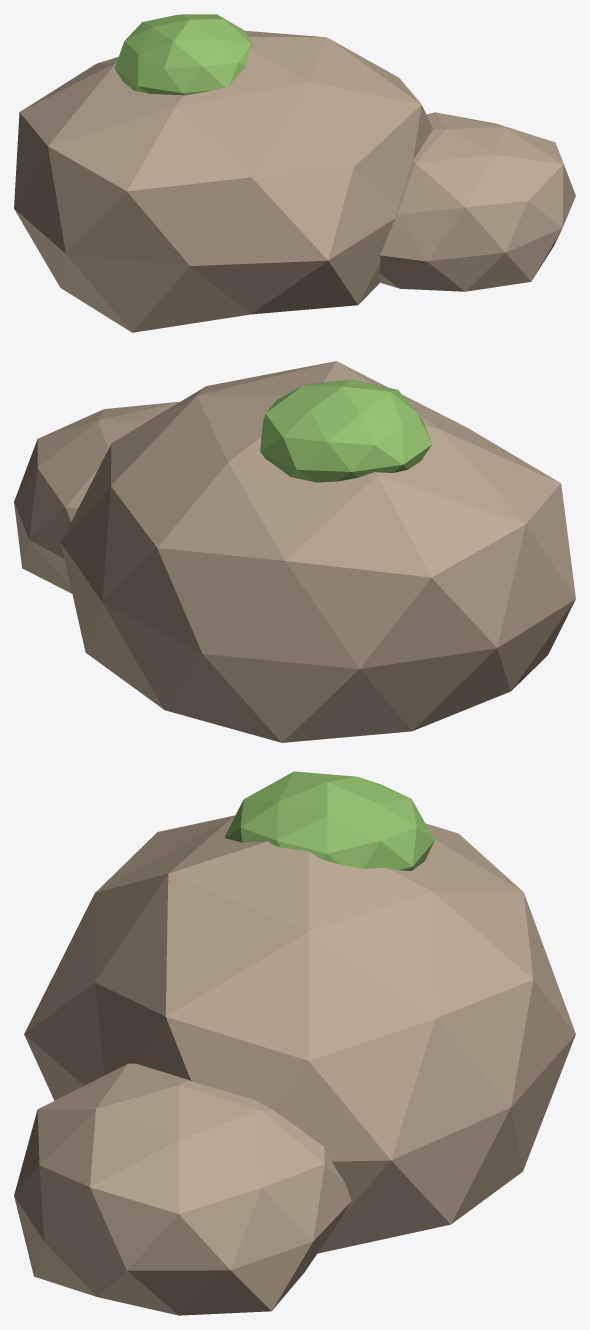
The model's file is ocean-g0.glb.
The picture shows the model from 3 angles, top to bottom: view 1: azimuth 30°, elevation 25°; view 2: azimuth 150°, elevation 25°; view 3: azimuth 270°, elevation 25°; orthographic projection. The views are drawn at different scales.
Visible parts, largest first — view 1: ocean-g0; view 2: ocean-g0; view 3: ocean-g0.
Boxes of the visible parts, box(x1,y1,x2,y2) form: ocean-g0: box(14, 14, 575, 332); ocean-g0: box(14, 361, 575, 742); ocean-g0: box(14, 771, 575, 1315).
Size of the model in its own units: 0.8193 by 0.3994 by 0.6065.
